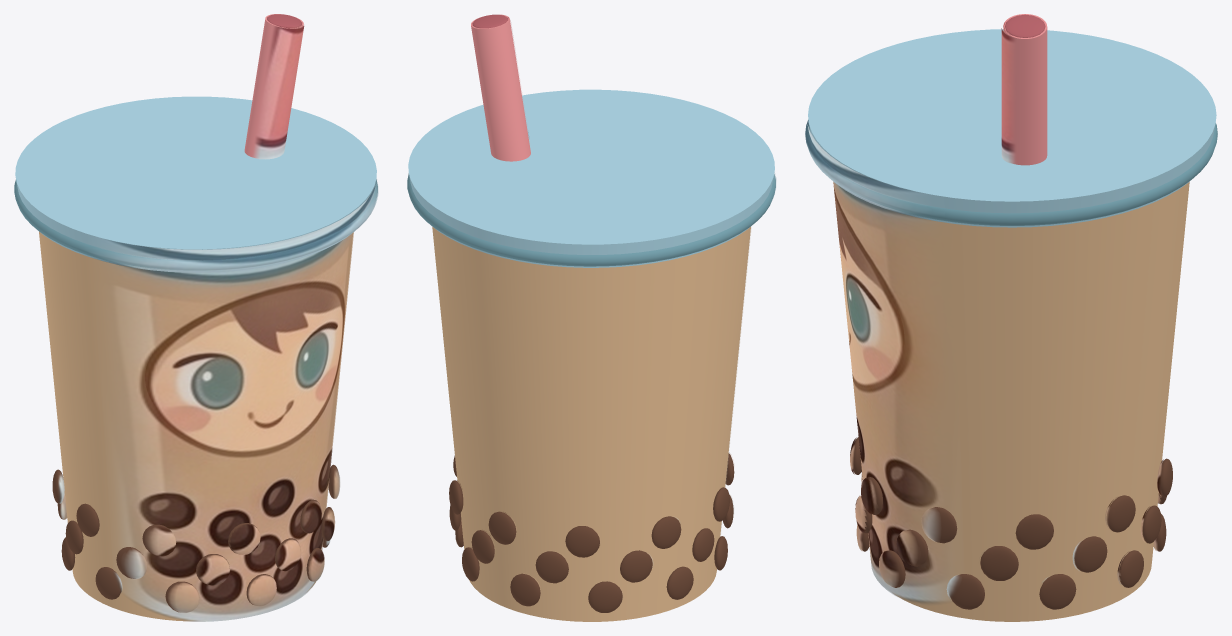
Rendered from drink-bubble-tea.glb.
3 views of the same model, side by side, from view 1: azimuth 30°, elevation 25°; view 2: azimuth 150°, elevation 25°; view 3: azimuth 270°, elevation 25° (orthographic). The views are drawn at different scales.
Parts seen in each view (by area): view 1: CupBodyOriginalPaint, BlueLid, CupBody, PinkStrawOriginalPaint, BlueLidOriginalPaint, LidRimOriginalPaint, PinkStraw, LidRim, Pearl1_9OriginalPaint, Pearl0_9OriginalPaint, Pearl2_9OriginalPaint, Pearl0_0OriginalPaint (+6 smaller); view 2: CupBody, BlueLid, PinkStraw, LidRim, Pearl2_5, Pearl0_6, Pearl1_5, Pearl1_6, Pearl0_5, Pearl2_6, Pearl2_4, Pearl0_7 (+2 smaller); view 3: CupBody, BlueLid, CupBodyOriginalPaint, PinkStraw, LidRim, PinkStrawOriginalPaint, BlueLidOriginalPaint, LidRimOriginalPaint, Pearl2_2, Pearl1_2, Pearl0_3, Pearl0_2 (+8 smaller).
Boxes of the visible parts, x1,y1,x2,y2 form: CupBodyOriginalPaint: [103, 232, 353, 621]; BlueLid: [15, 96, 376, 267]; CupBody: [39, 231, 352, 621]; PinkStrawOriginalPaint: [253, 26, 304, 159]; BlueLidOriginalPaint: [91, 182, 376, 272]; LidRimOriginalPaint: [90, 183, 378, 270]; PinkStraw: [244, 14, 303, 157]; LidRim: [14, 179, 377, 269]; Pearl1_9OriginalPaint: [198, 555, 230, 585]; Pearl0_9OriginalPaint: [168, 582, 200, 613]; Pearl2_9OriginalPaint: [229, 524, 260, 554]; Pearl0_0OriginalPaint: [248, 575, 276, 606]; CupBody: [432, 227, 750, 621]; BlueLid: [408, 89, 774, 267]; PinkStraw: [471, 14, 530, 161]; LidRim: [407, 173, 775, 266]; Pearl2_5: [565, 526, 599, 557]; Pearl0_6: [588, 581, 622, 612]; Pearl1_5: [535, 551, 568, 583]; Pearl1_6: [620, 550, 652, 582]; Pearl0_5: [510, 573, 540, 606]; Pearl2_6: [651, 516, 681, 548]; Pearl2_4: [488, 511, 516, 544]; Pearl0_7: [666, 566, 693, 599]; CupBody: [892, 182, 1189, 621]; BlueLid: [808, 29, 1216, 227]; CupBodyOriginalPaint: [833, 182, 952, 603]; PinkStraw: [1003, 14, 1047, 165]; LidRim: [808, 123, 1217, 225]; PinkStrawOriginalPaint: [1001, 28, 1014, 163]; BlueLidOriginalPaint: [807, 125, 928, 219]; LidRimOriginalPaint: [805, 120, 926, 213]; Pearl2_2: [1015, 514, 1053, 549]; Pearl1_2: [980, 546, 1018, 580]; Pearl0_3: [1039, 574, 1076, 609]; Pearl0_2: [949, 574, 984, 609].
Size of the model in its own units: 1.59 by 2.53 by 1.6.
Materials: 71 (36 with a texture image).
